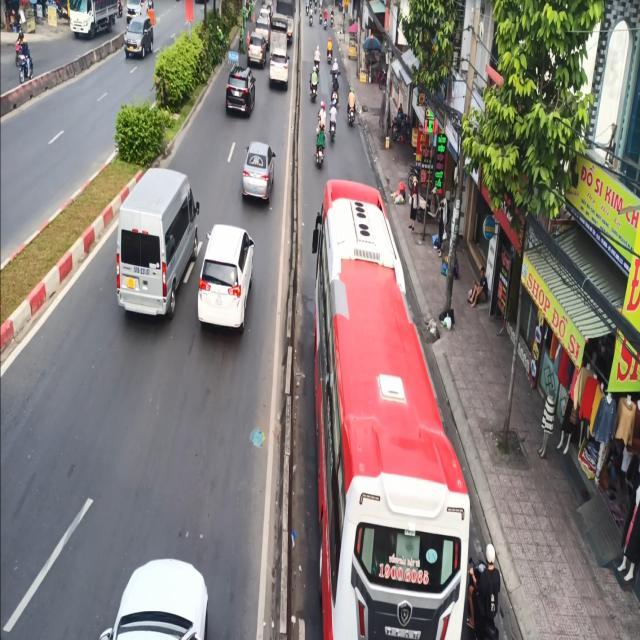bus: (311, 178, 471, 639)
car: (98, 557, 208, 639), (196, 223, 255, 330), (240, 141, 275, 201), (223, 62, 259, 118), (116, 16, 156, 63), (268, 47, 292, 87)
truck: (113, 166, 199, 319)
